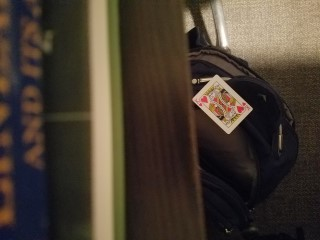KingOfHearts: (191, 73, 254, 135)
